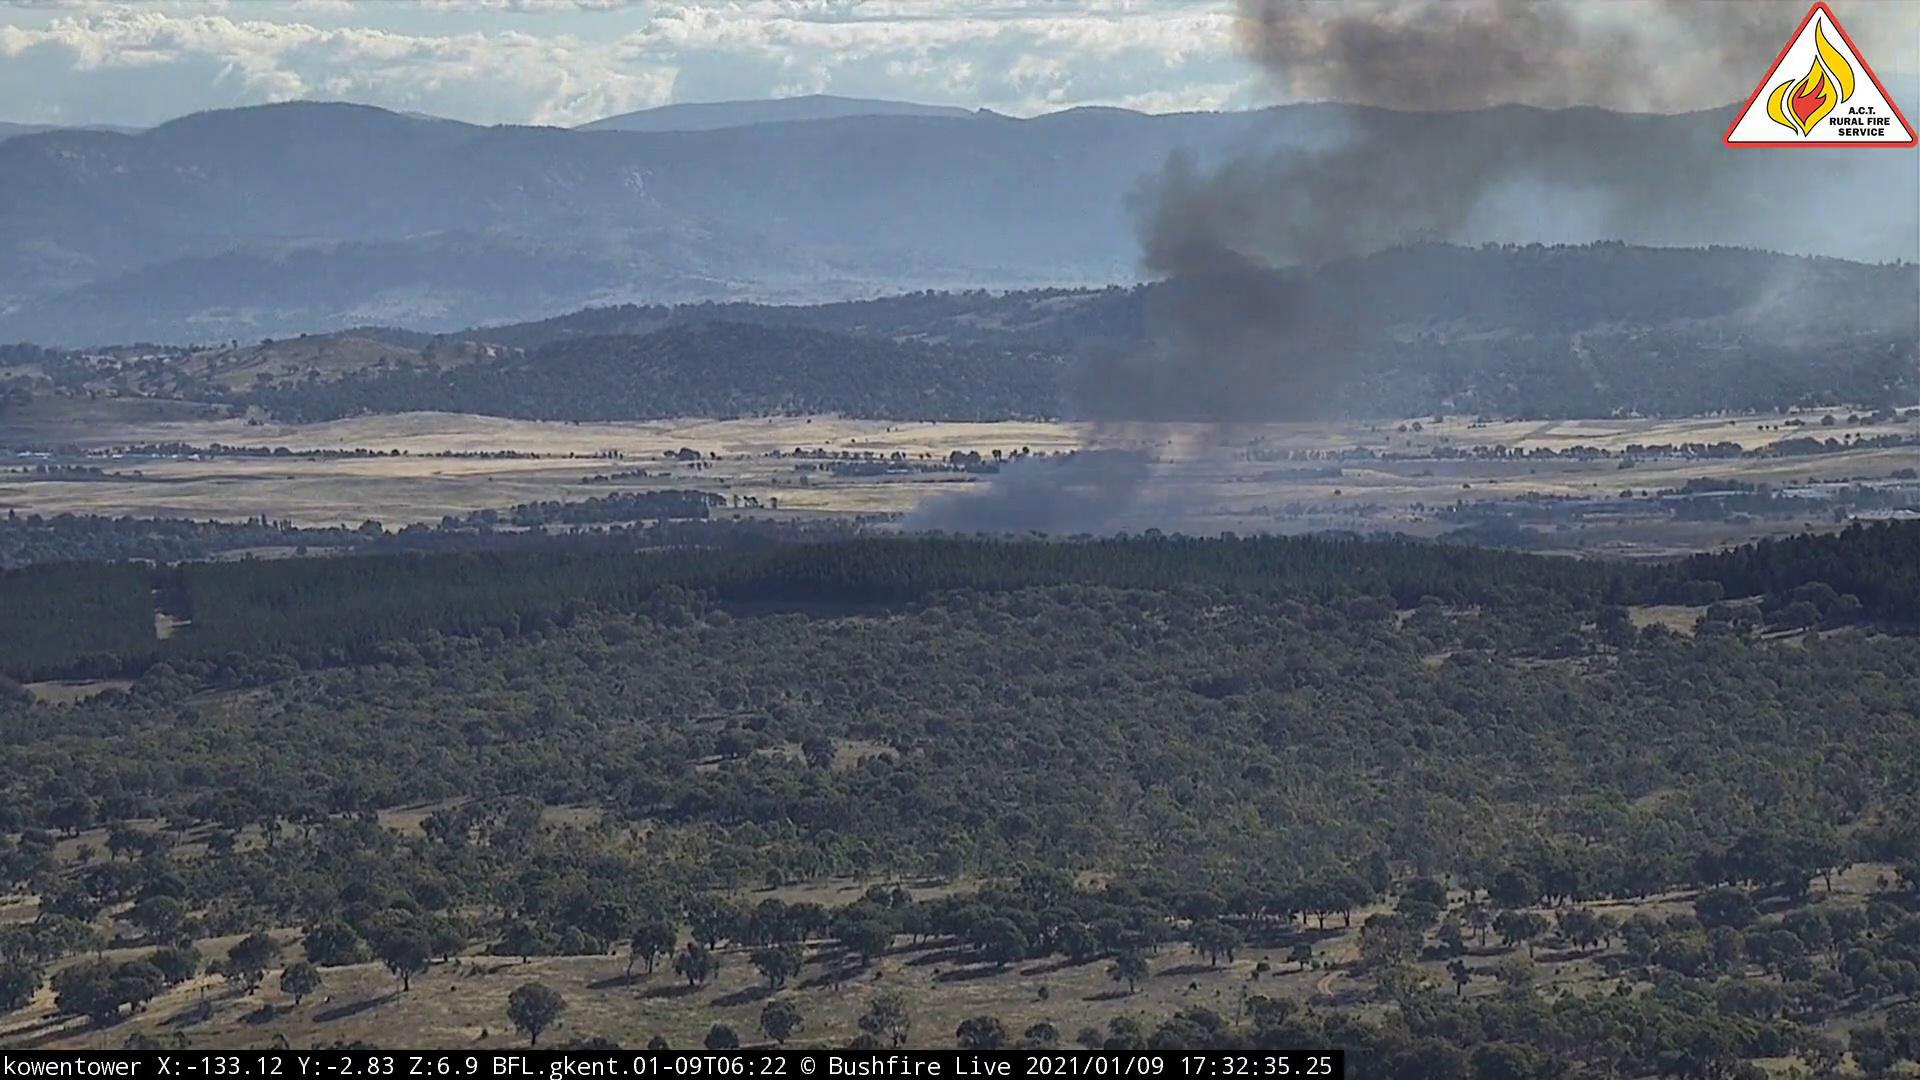Smoke: (893, 3, 1720, 553)
